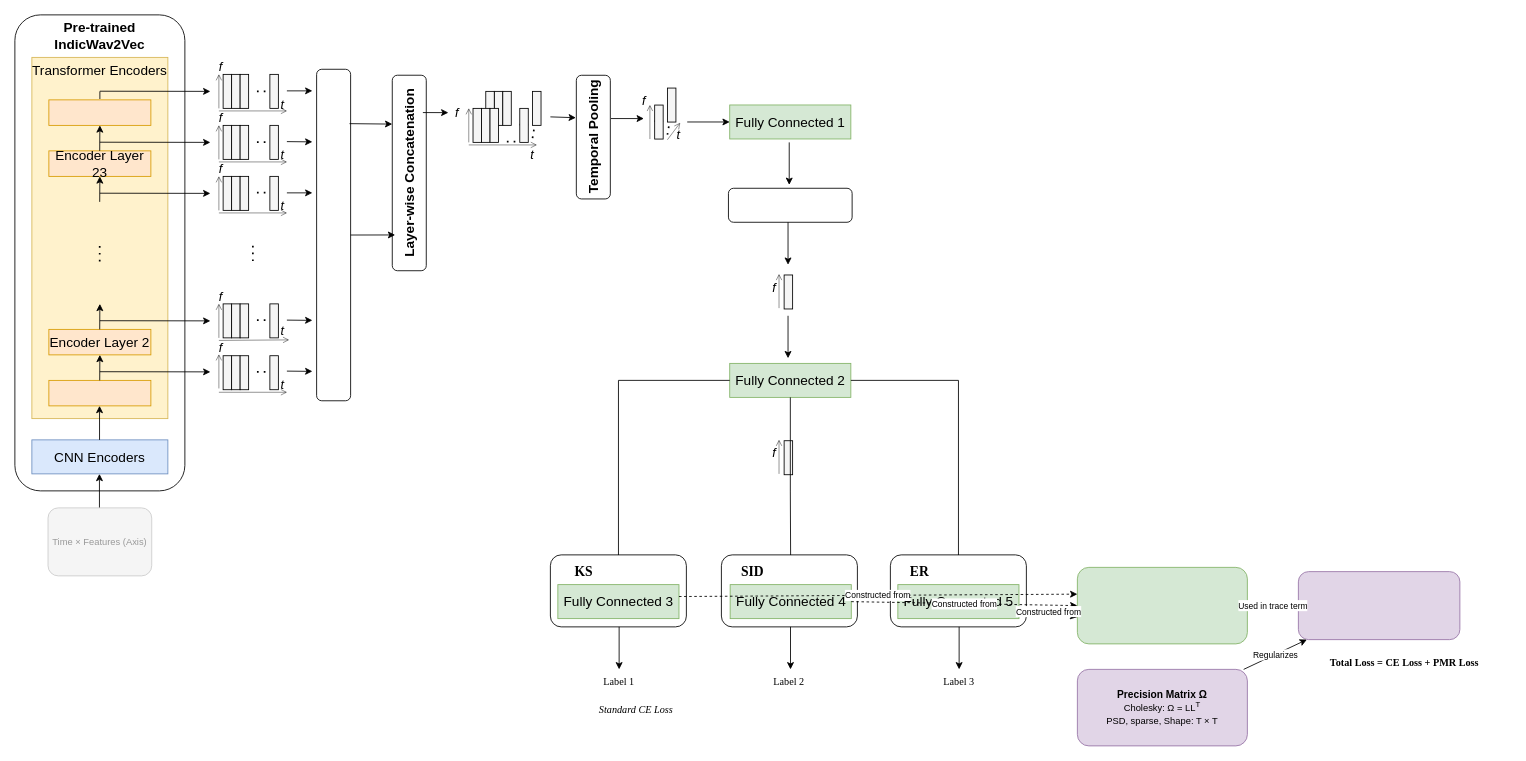
Image size: 1526x761. Some labels were removed from this diagram. Here are the shapes that lost their labels. From the top down, the centre of each, then its label:
[99,112]: Encoder Layer 24
[790,204]: Layer-wise Pooling
[333,234]: Recursive Layer Selection
[99,393]: Encoder Layer 1
[1162,605]: Task Parameter Matrix W Flattened head weights Shape: T × D_total
[1379,605]: PMR Loss term γ·(-log|Ω| + Tr(WΩW T )) + λ·|Ω| 1
